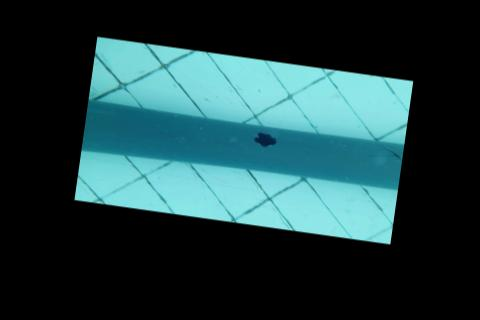kebocoran: (250, 129, 276, 147)
keretakan: (369, 143, 403, 161)
